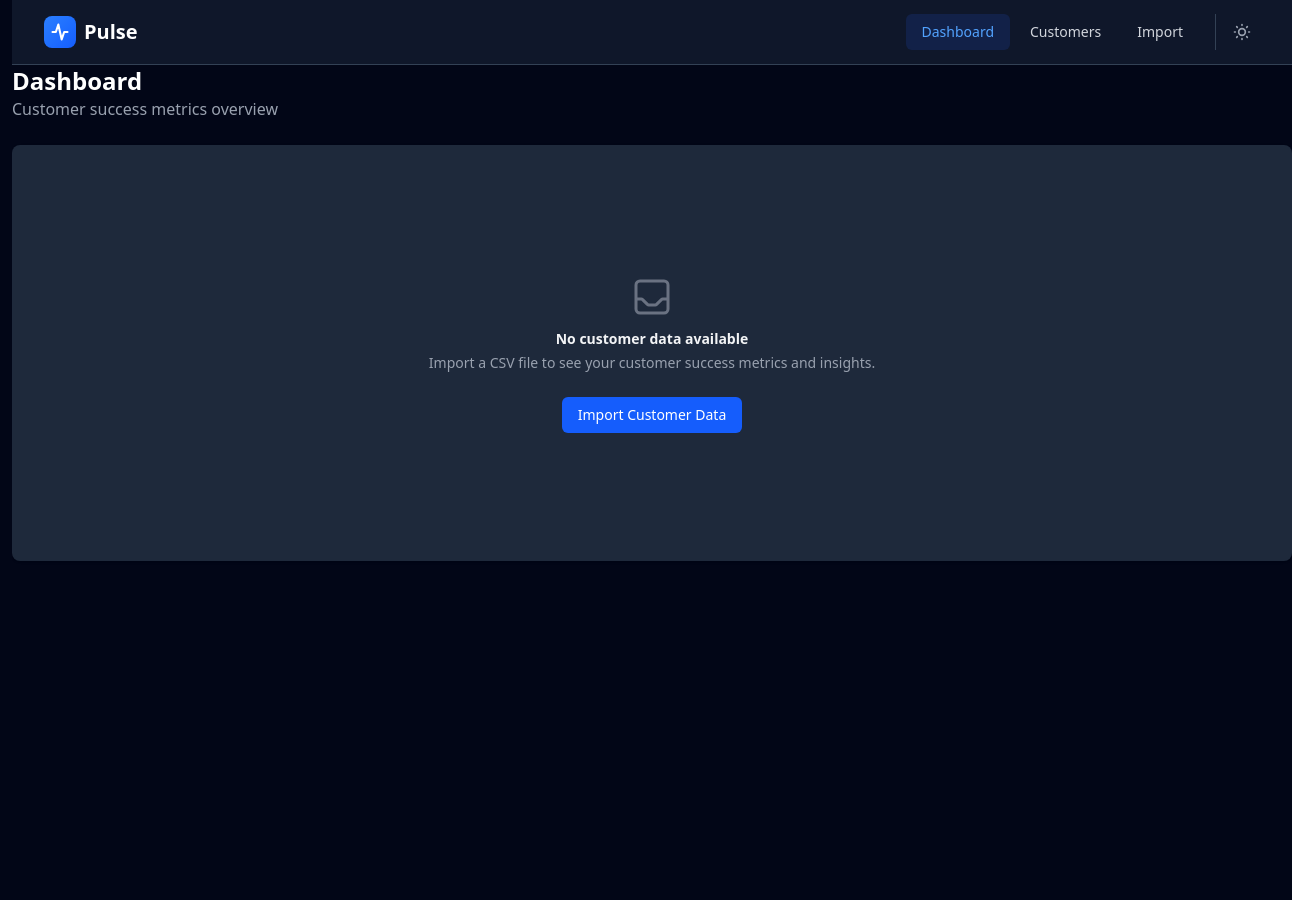
Test: Navigation Flow Integration › Header Navigation › should navigate from dashboard to import
Click the link to "/import": (1160, 32) [1137, 22, 1183, 41]
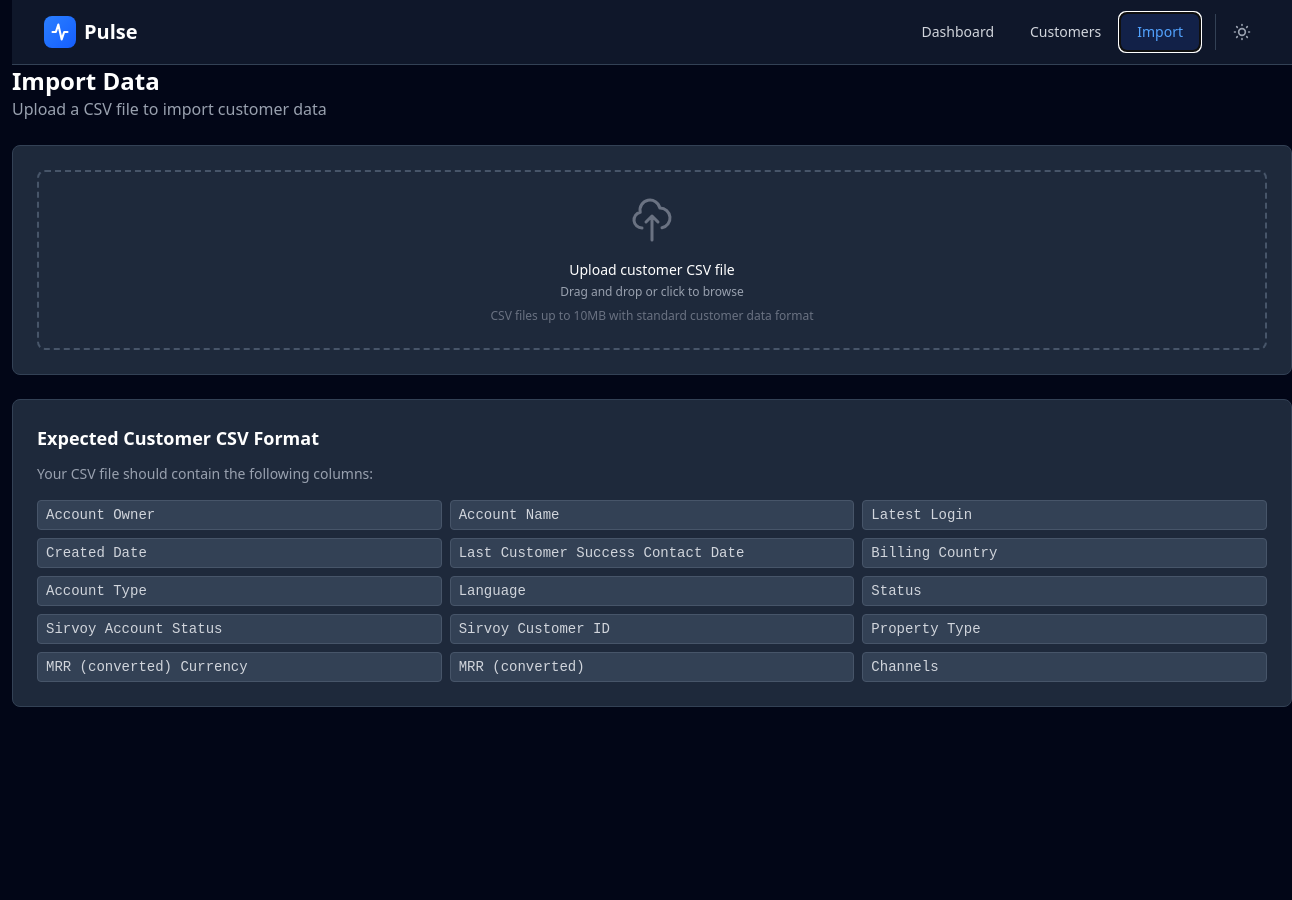
Check: the heading "Import Data" is shown, box [12, 64, 160, 97]
